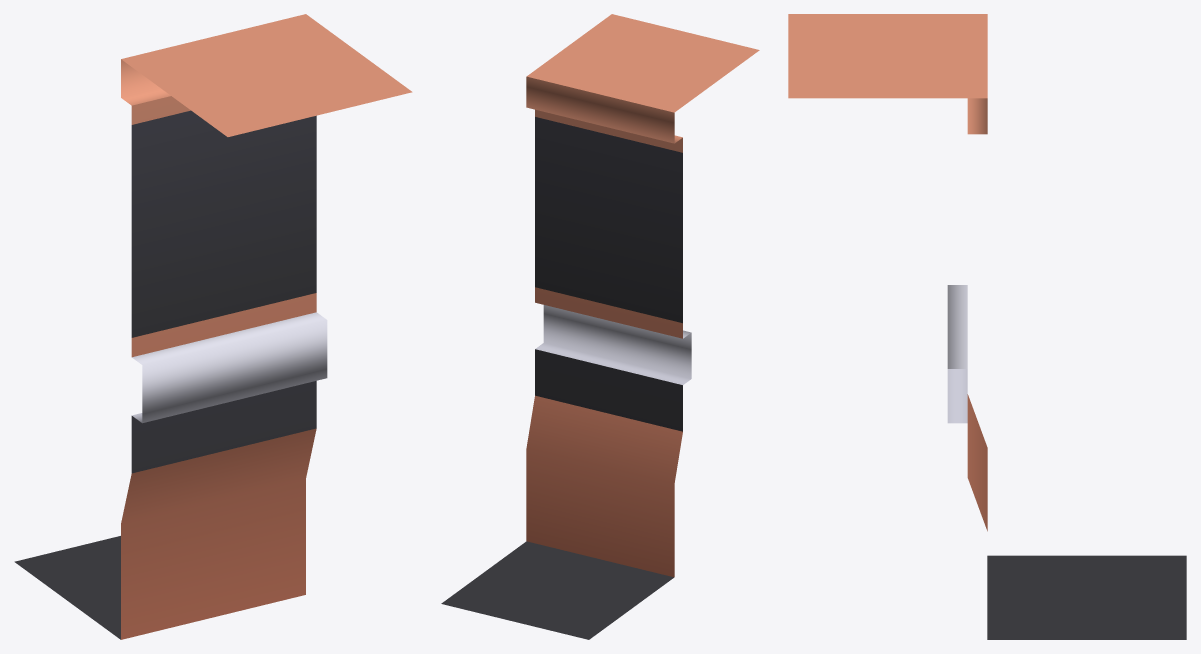
File: structure-wall.obj
The picture shows the model from 3 angles, left to right: view 1: azimuth 30°, elevation 25°; view 2: azimuth 150°, elevation 25°; view 3: azimuth 270°, elevation 25°; orthographic projection. The views are drawn at different scales.
Parts seen in each view (by area): view 1: structure-wall; view 2: structure-wall; view 3: structure-wall.
Part boxes in pixels (left/top/right/bottom): structure-wall: left=14, top=14, right=412, bottom=639; structure-wall: left=441, top=14, right=759, bottom=639; structure-wall: left=788, top=14, right=1186, bottom=639.
Bounding box in the file's own units: 1 × 3 × 2.
